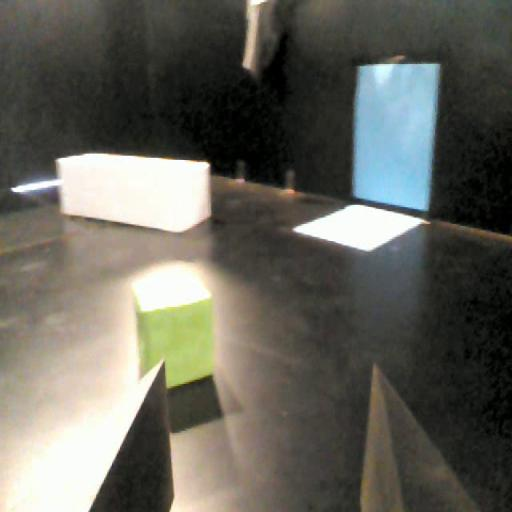cube: (123, 269, 220, 394)
